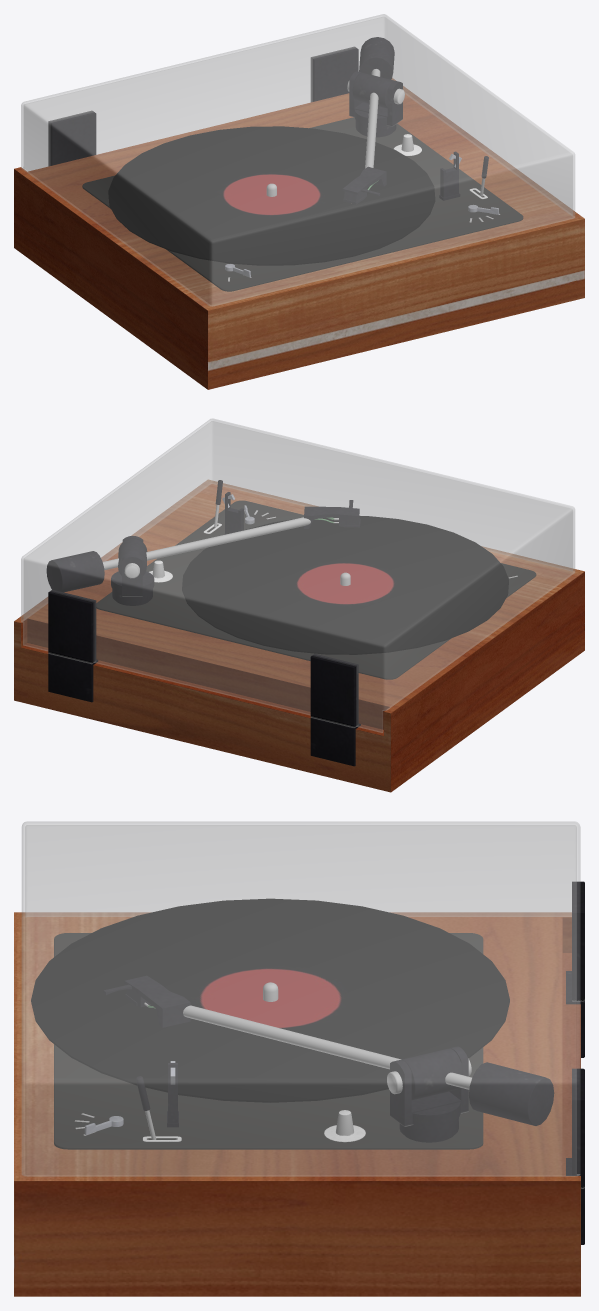
Rendered from music_player.glb.
3 renders of one model, top to bottom at view 1: azimuth 30°, elevation 25°; view 2: azimuth 150°, elevation 25°; view 3: azimuth 270°, elevation 25°, orthographic. The views are drawn at different scales.
Parts seen in each view (by area): view 1: Cube.005, Cube, Cylinder, Cube.002, Cube.006, Cylinder.010, Cylinder.002, Cube.001, Cube.003; view 2: Cube.005, Cube, Cylinder, Cube.006, Cube.002, Cylinder.002, Cylinder.010, Cube.001, Cube.003; view 3: Cube.005, Cube, Cylinder, Cube.002, Cylinder.002, Cylinder.010, Cube.006, Cube.001, Cylinder.007, Cube.003.
Part boxes in pixels (x1,y1,x2,y2): Cube.005: (21, 14, 574, 306); Cube: (14, 78, 584, 389); Cylinder: (108, 126, 435, 265); Cube.002: (82, 117, 523, 291); Cube.006: (48, 47, 358, 165); Cylinder.010: (347, 71, 404, 137); Cylinder.002: (359, 37, 394, 168); Cube.001: (342, 167, 386, 204); Cube.003: (439, 151, 460, 200); Cube.005: (21, 418, 574, 732); Cube: (14, 479, 584, 792); Cylinder: (182, 516, 508, 654); Cube.006: (48, 589, 360, 766); Cube.002: (96, 500, 536, 679); Cylinder.002: (46, 517, 310, 592); Cylinder.010: (111, 536, 154, 605); Cube.001: (304, 500, 360, 528); Cube.003: (224, 492, 243, 534); Cube.005: (22, 821, 580, 1176); Cube: (14, 912, 580, 1296); Cylinder: (31, 898, 509, 1102); Cube.002: (54, 933, 483, 1149); Cylinder.002: (183, 1005, 554, 1125); Cylinder.010: (387, 1046, 471, 1142); Cube.006: (566, 881, 584, 1244); Cube.001: (103, 975, 190, 1027); Cylinder.007: (324, 1110, 365, 1142); Cube.003: (167, 1063, 178, 1127).
Bounding box in the file's own units: 223 × 82.03 × 200.
Materials: 2 (1 with a texture image).
